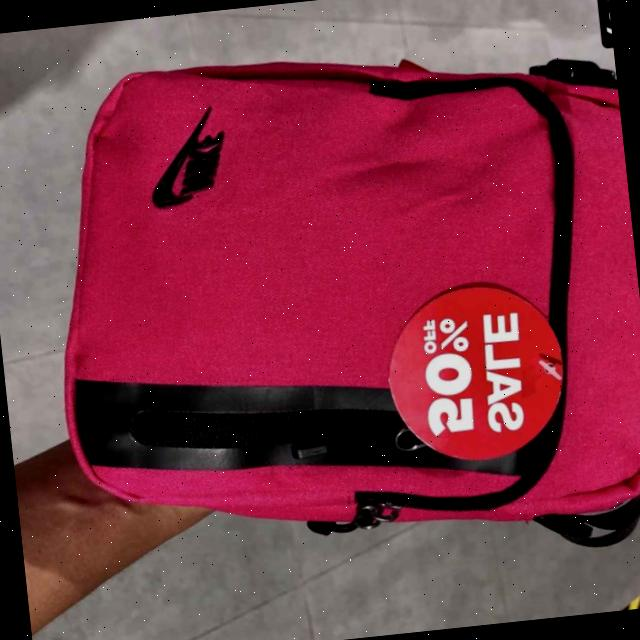Handbag: (26, 15, 640, 611)
